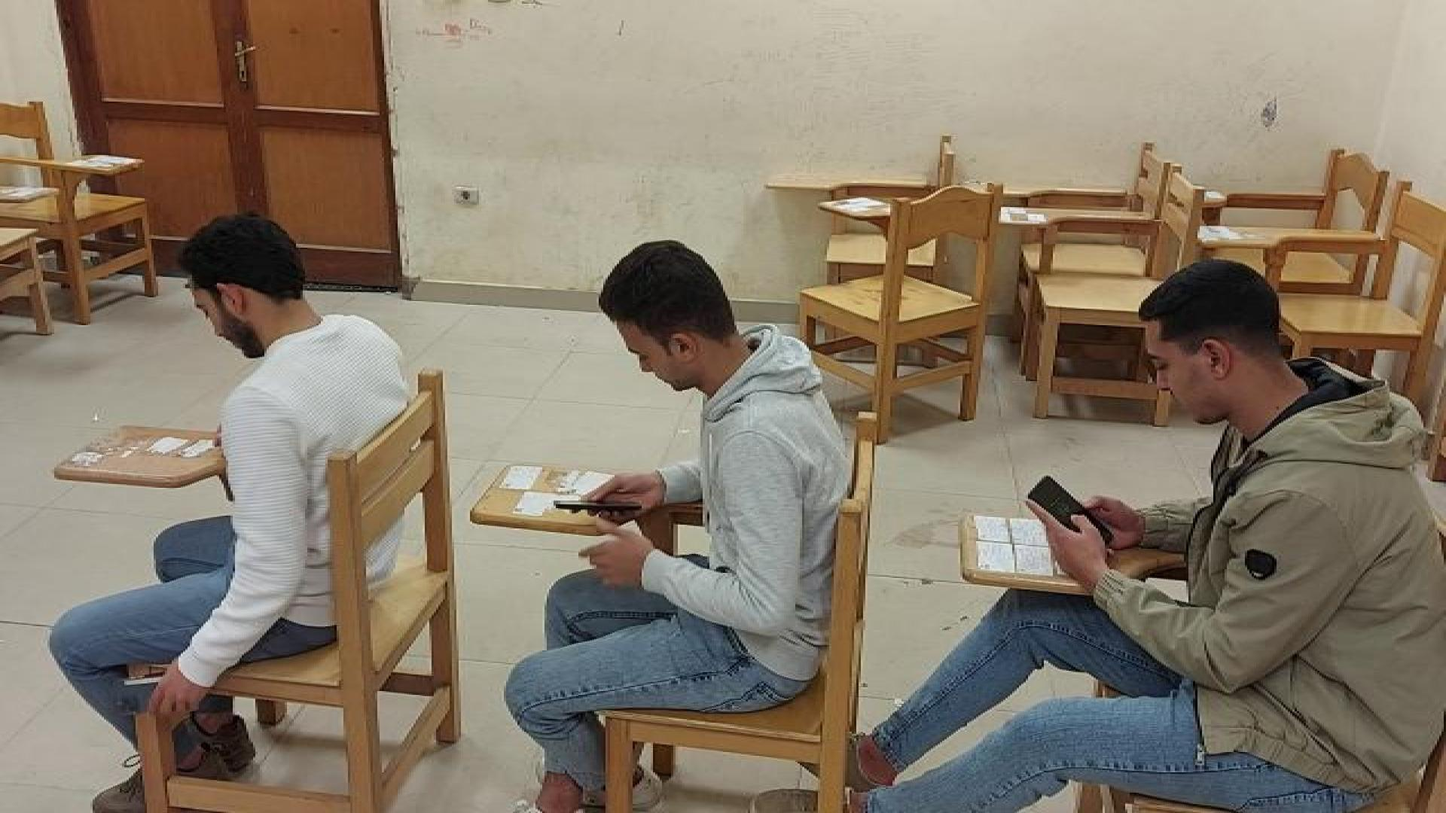phone: (1026, 471, 1121, 549), (105, 679, 182, 714), (550, 496, 647, 515)
